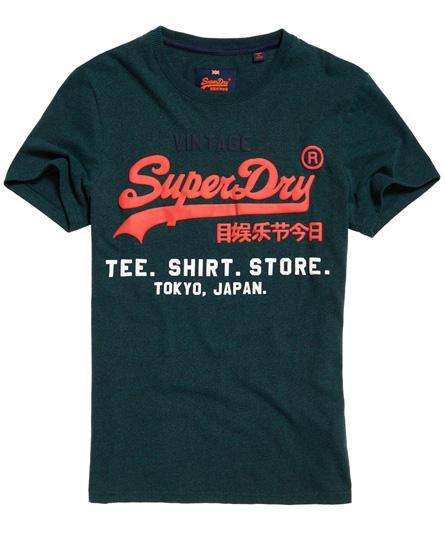teeshirt: (5, 16, 443, 505)
